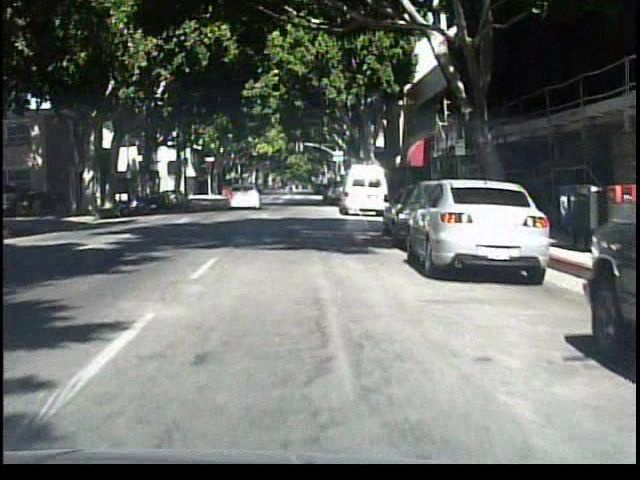person: (281, 173, 301, 205)
